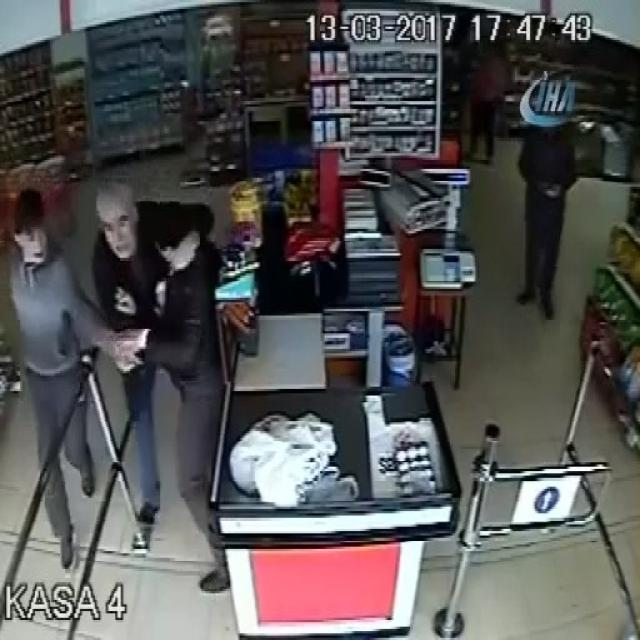fight: (90, 171, 230, 600)
